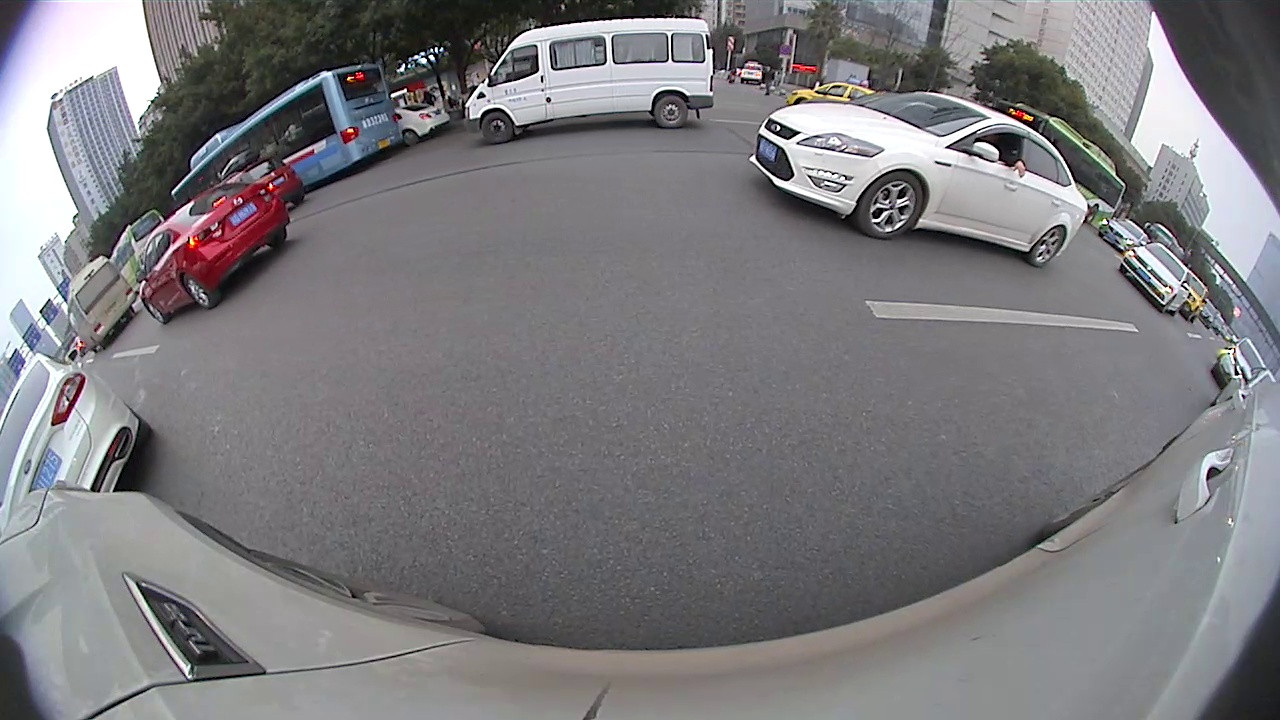bus: (173, 64, 400, 214), (996, 98, 1126, 225), (65, 258, 138, 349)
car: (748, 93, 1087, 268), (468, 18, 709, 143), (3, 353, 152, 529), (144, 176, 288, 323), (1119, 243, 1194, 316), (388, 101, 450, 143)
front: (859, 169, 924, 241), (479, 111, 514, 143), (145, 300, 168, 326)
rear: (1030, 224, 1071, 269), (182, 274, 215, 311), (654, 94, 689, 128), (1085, 203, 1100, 224), (400, 128, 418, 145)
